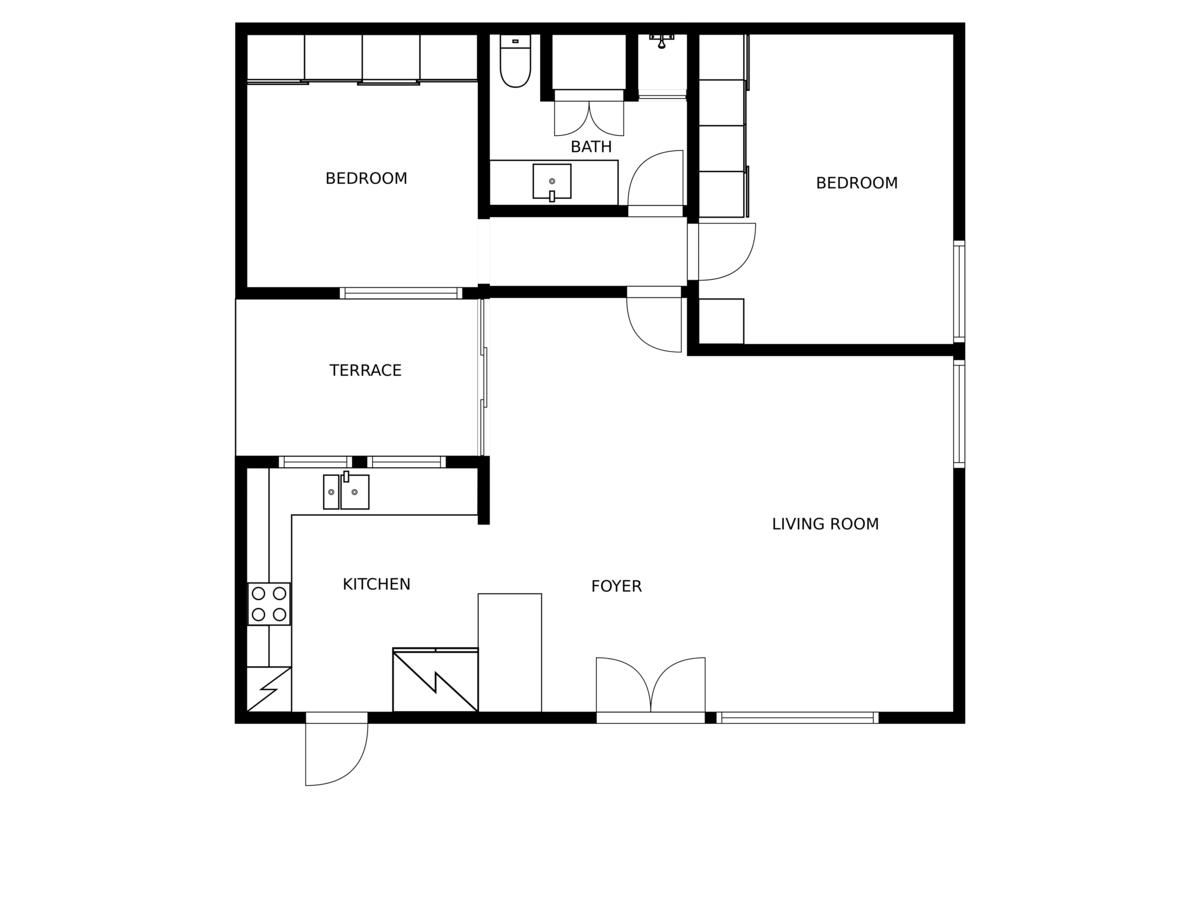wall: (235, 22, 966, 36), (234, 711, 966, 724), (953, 22, 966, 724), (477, 22, 491, 525), (235, 287, 700, 299), (687, 22, 700, 356), (234, 455, 248, 725), (687, 343, 966, 356), (235, 23, 248, 300), (234, 455, 491, 469), (476, 204, 699, 218), (540, 88, 640, 102), (540, 22, 554, 102), (625, 22, 639, 102)
